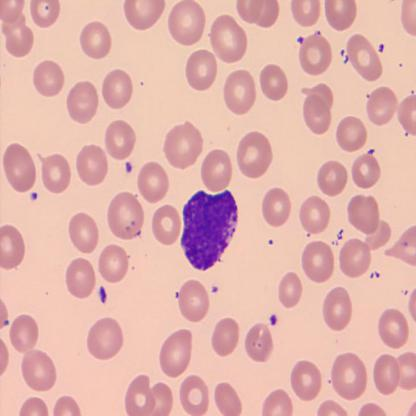Basophil: (178, 186, 240, 272)
